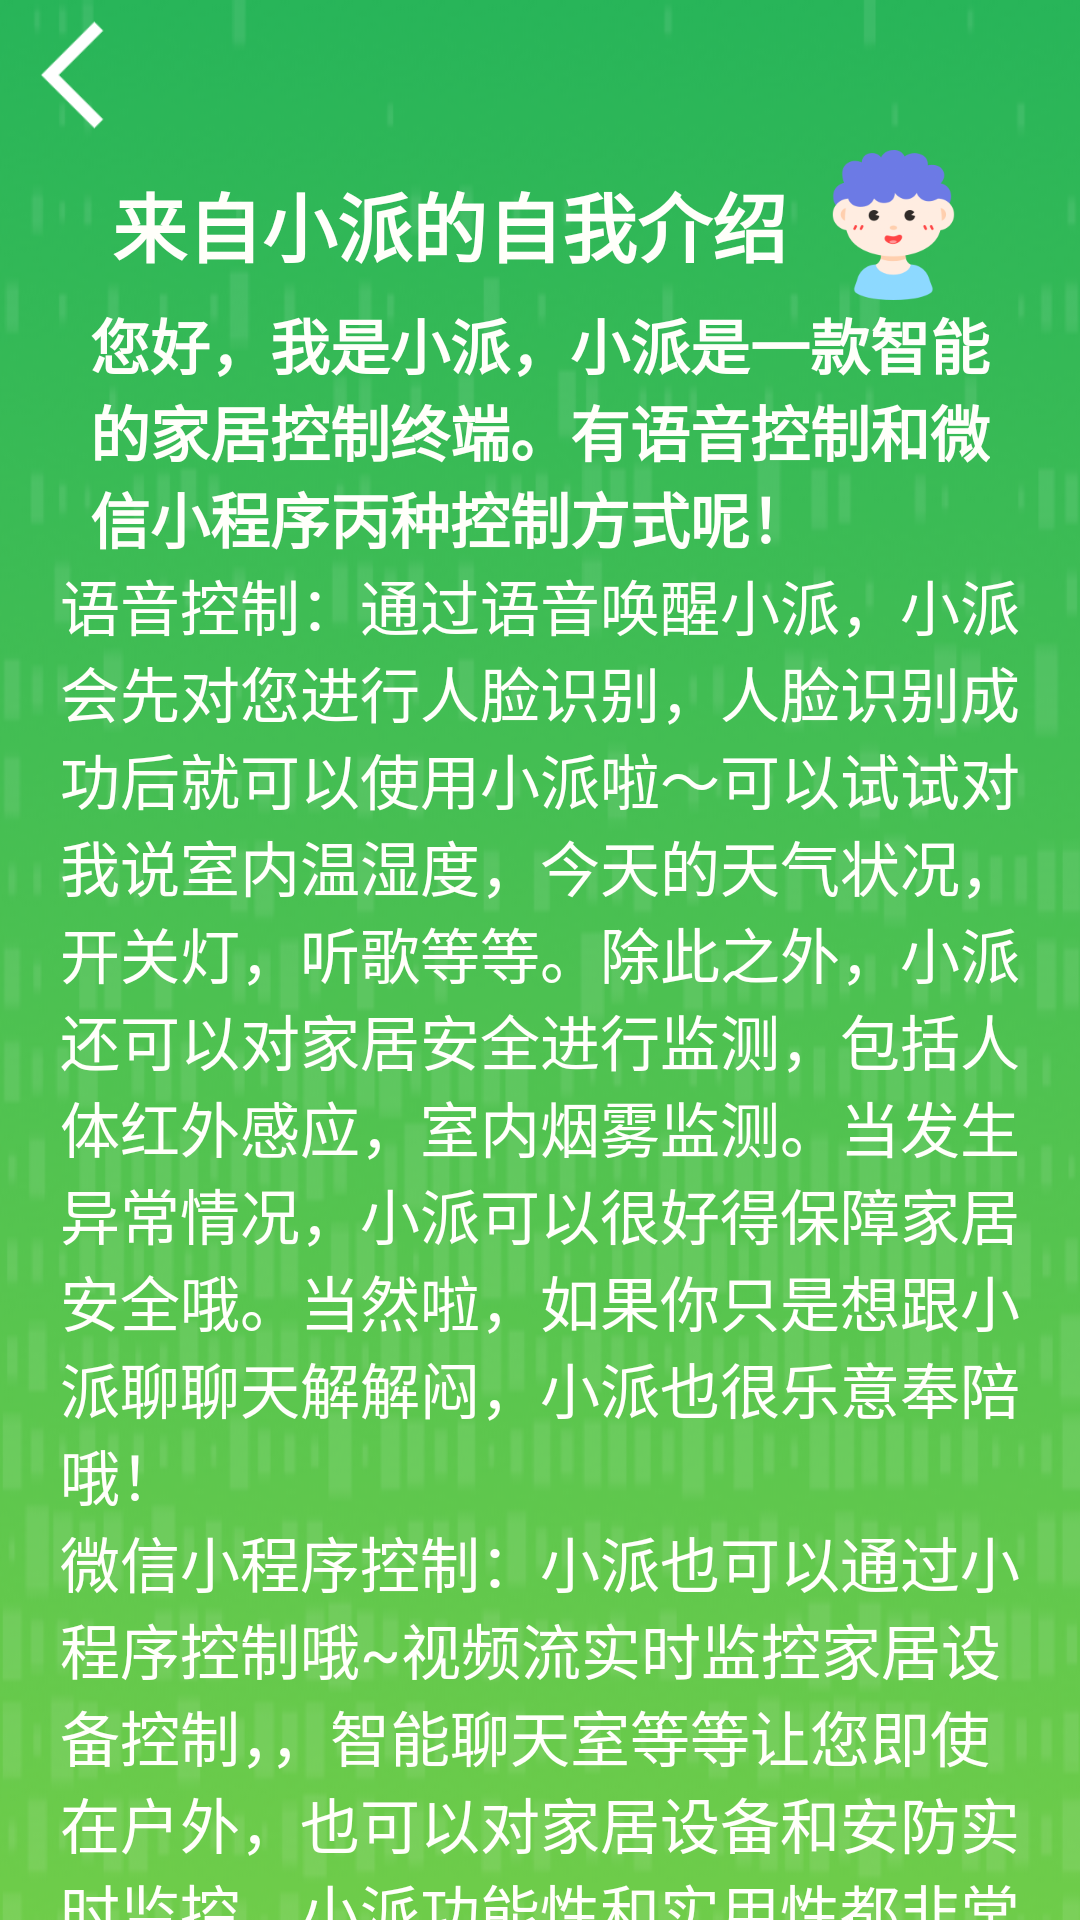

Named icons in this screenshot (1080x1920) and their bounding boxes, (x1, y1, x2, y2):
left: (41, 21, 103, 129)
